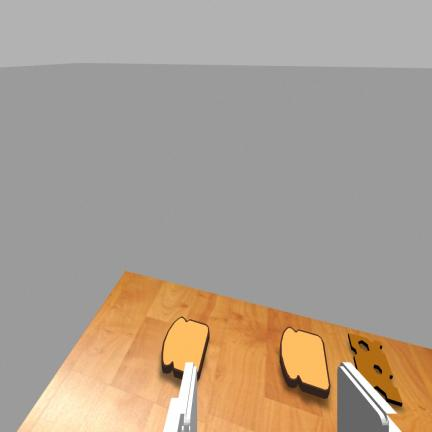cheese: (348, 333, 402, 406)
sliced_bread: (280, 327, 330, 397), (162, 317, 209, 379)
